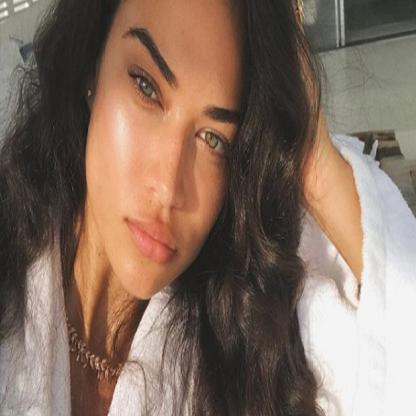wrinkle: (128, 89, 151, 117)
